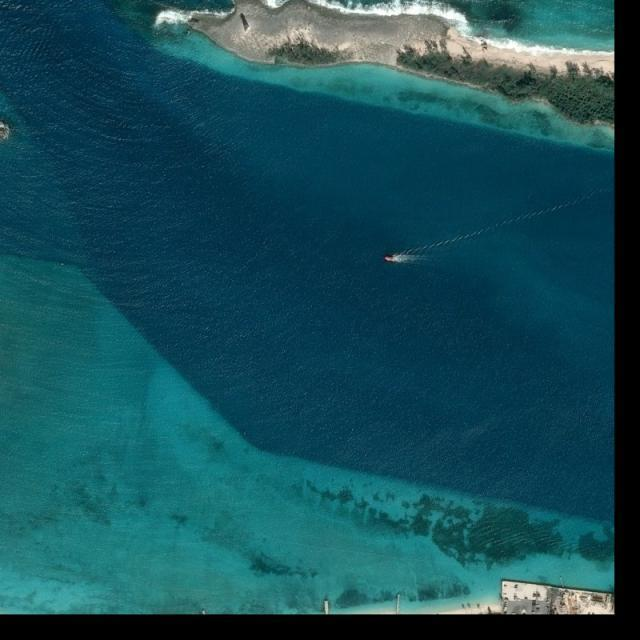ship: (384, 257, 395, 262)
